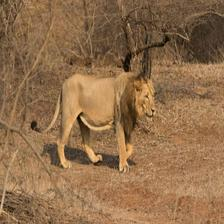Lion: (30, 70, 161, 170)
